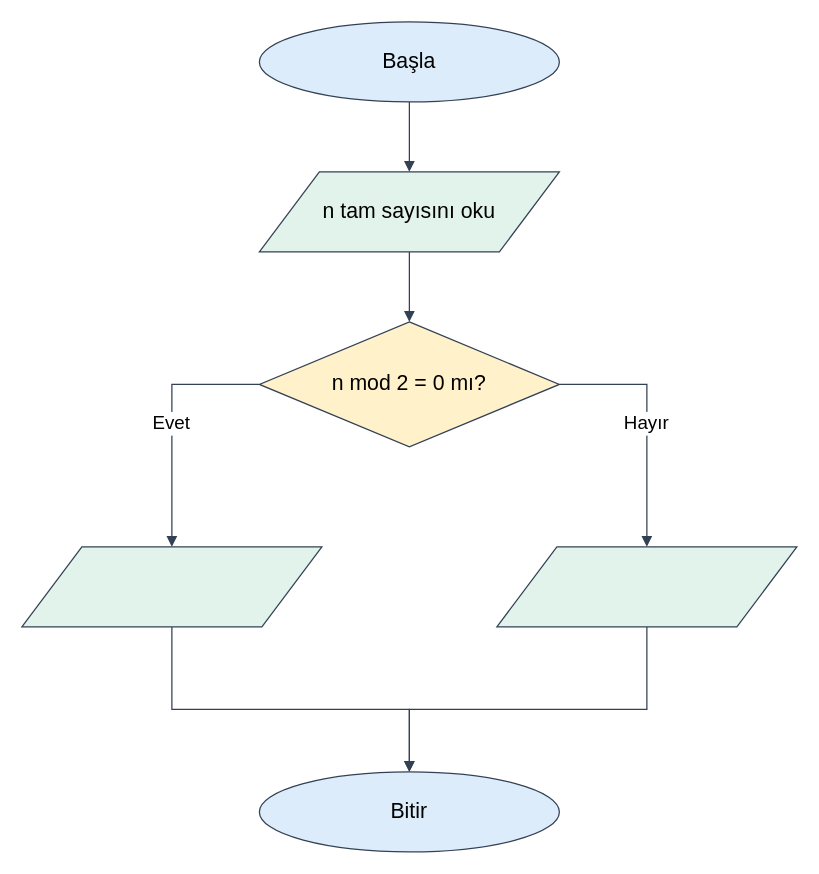
The diagram is 819 pixels wide and 874 high, and some of its shapes have lost their labels. The centre of each missing label's shape, as x and y in pixels:
Tek yaz: point 646,586
Çift yaz: point 171,586
